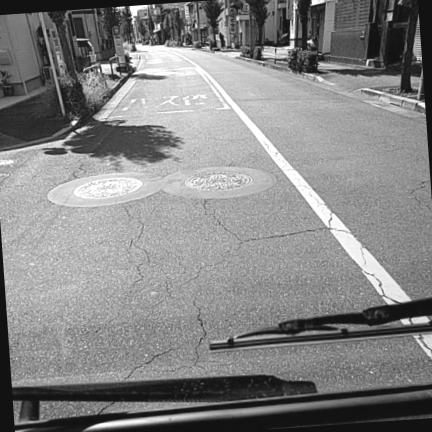Road: (0, 47, 431, 392)
